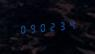four: (68, 18, 77, 31)
nine: (27, 21, 36, 34)
three: (58, 19, 67, 32)
two: (48, 19, 57, 33)
zero: (38, 20, 47, 34), (17, 22, 26, 35)
